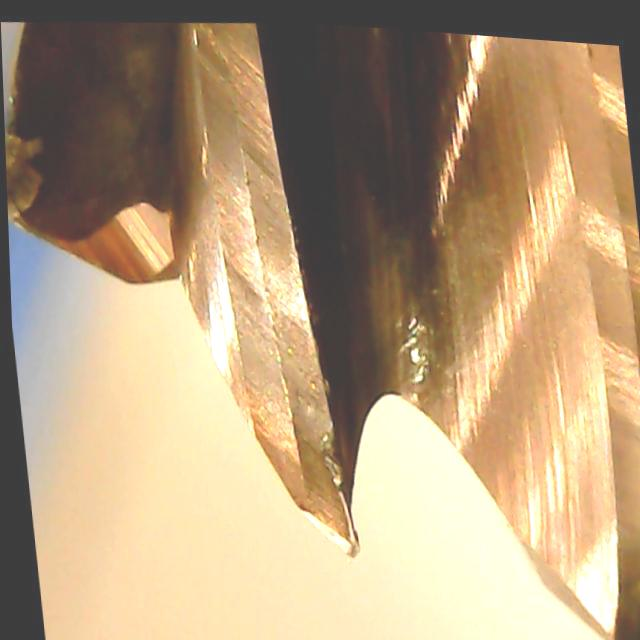Tool-wear-class-1: (205, 242, 365, 561)
